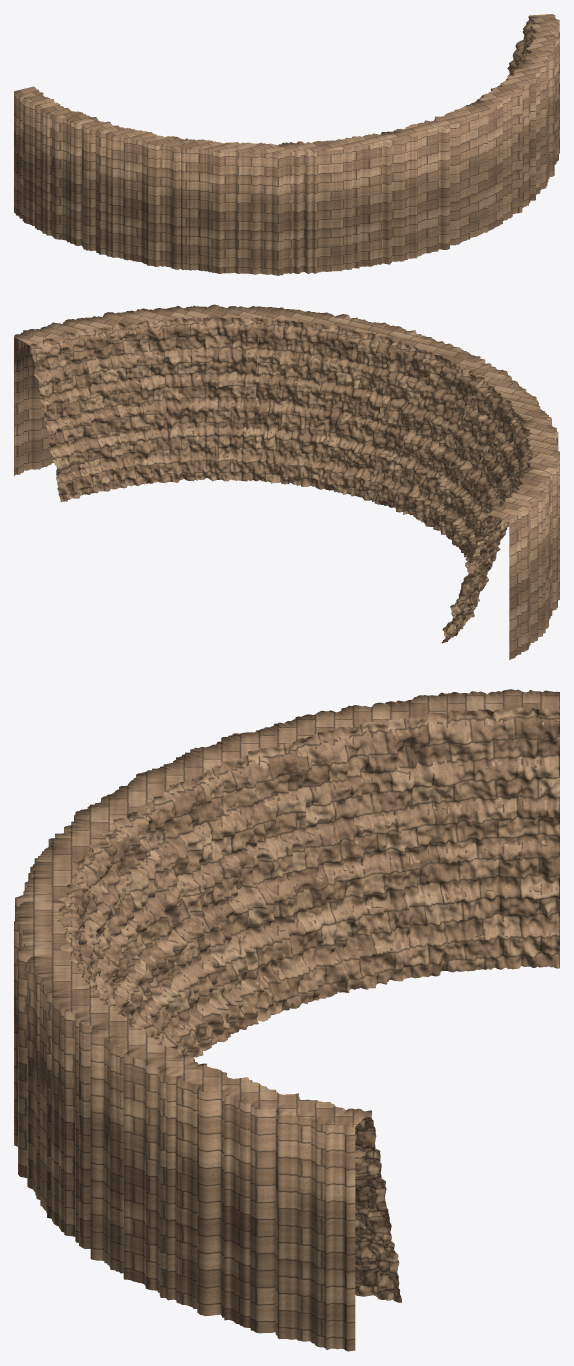
File: map_walls_04.glb
The picture shows the model from 3 angles, top to bottom: view 1: azimuth 30°, elevation 25°; view 2: azimuth 150°, elevation 25°; view 3: azimuth 270°, elevation 25°; orthographic projection. The views are drawn at different scales.
Visible parts, largest first — view 1: Wall_10__wall_01, Wall_11__wall_01, Wall_09__wall_01, Wall_12__wall_01, Wall_08__wall_01, Wall_13__wall_01, Wall_14__wall_01; view 2: Wall_13__wall_00, Wall_12__wall_00, Wall_14__wall_00, Wall_11__wall_00, Wall_08__wall_01, Wall_14__wall_01, Wall_10__wall_00, Wall_12__wall_01, Wall_13__wall_01, Wall_11__wall_01, Wall_10__wall_01, Wall_09__wall_01 (+2 smaller); view 3: Wall_14__wall_01, Wall_08__wall_00, Wall_09__wall_00, Wall_13__wall_01, Wall_10__wall_00, Wall_12__wall_01, Wall_08__wall_01, Wall_09__wall_01, Wall_11__wall_00, Wall_10__wall_01, Wall_11__wall_01, Wall_14__wall_00.
Part boxes in pixels (x1=…): Wall_10__wall_01: x1=189, y1=139, x2=302, y2=275; Wall_11__wall_01: x1=299, y1=129, x2=411, y2=273; Wall_09__wall_01: x1=85, y1=121, x2=194, y2=270; Wall_12__wall_01: x1=400, y1=99, x2=497, y2=258; Wall_08__wall_01: x1=14, y1=86, x2=99, y2=249; Wall_13__wall_01: x1=479, y1=59, x2=547, y2=226; Wall_14__wall_01: x1=505, y1=14, x2=559, y2=181; Wall_13__wall_00: x1=162, y1=316, x2=259, y2=482; Wall_12__wall_00: x1=271, y1=320, x2=374, y2=494; Wall_14__wall_00: x1=49, y1=321, x2=151, y2=498; Wall_11__wall_00: x1=364, y1=339, x2=463, y2=522; Wall_08__wall_01: x1=474, y1=466, x2=556, y2=660; Wall_14__wall_01: x1=14, y1=311, x2=137, y2=502; Wall_10__wall_00: x1=434, y1=377, x2=519, y2=560; Wall_12__wall_01: x1=252, y1=307, x2=388, y2=483; Wall_13__wall_01: x1=131, y1=304, x2=262, y2=483; Wall_11__wall_01: x1=347, y1=324, x2=485, y2=498; Wall_10__wall_01: x1=423, y1=363, x2=545, y2=529; Wall_09__wall_01: x1=467, y1=412, x2=559, y2=607; Wall_14__wall_01: x1=178, y1=1067, x2=401, y2=1351; Wall_08__wall_00: x1=409, y1=707, x2=559, y2=976; Wall_09__wall_00: x1=240, y1=722, x2=402, y2=1008; Wall_13__wall_01: x1=60, y1=998, x2=207, y2=1302; Wall_10__wall_00: x1=113, y1=770, x2=269, y2=1057; Wall_12__wall_01: x1=14, y1=918, x2=108, y2=1228; Wall_08__wall_01: x1=352, y1=689, x2=559, y2=980; Wall_09__wall_01: x1=179, y1=705, x2=367, y2=1018; Wall_11__wall_00: x1=57, y1=840, x2=178, y2=1049; Wall_10__wall_01: x1=64, y1=757, x2=208, y2=1057; Wall_11__wall_01: x1=15, y1=831, x2=107, y2=1000; Wall_14__wall_00: x1=226, y1=1074, x2=374, y2=1296.
Bounding box in the file's own units: 829 × 197 × 436.
1 material, 1 textured.
